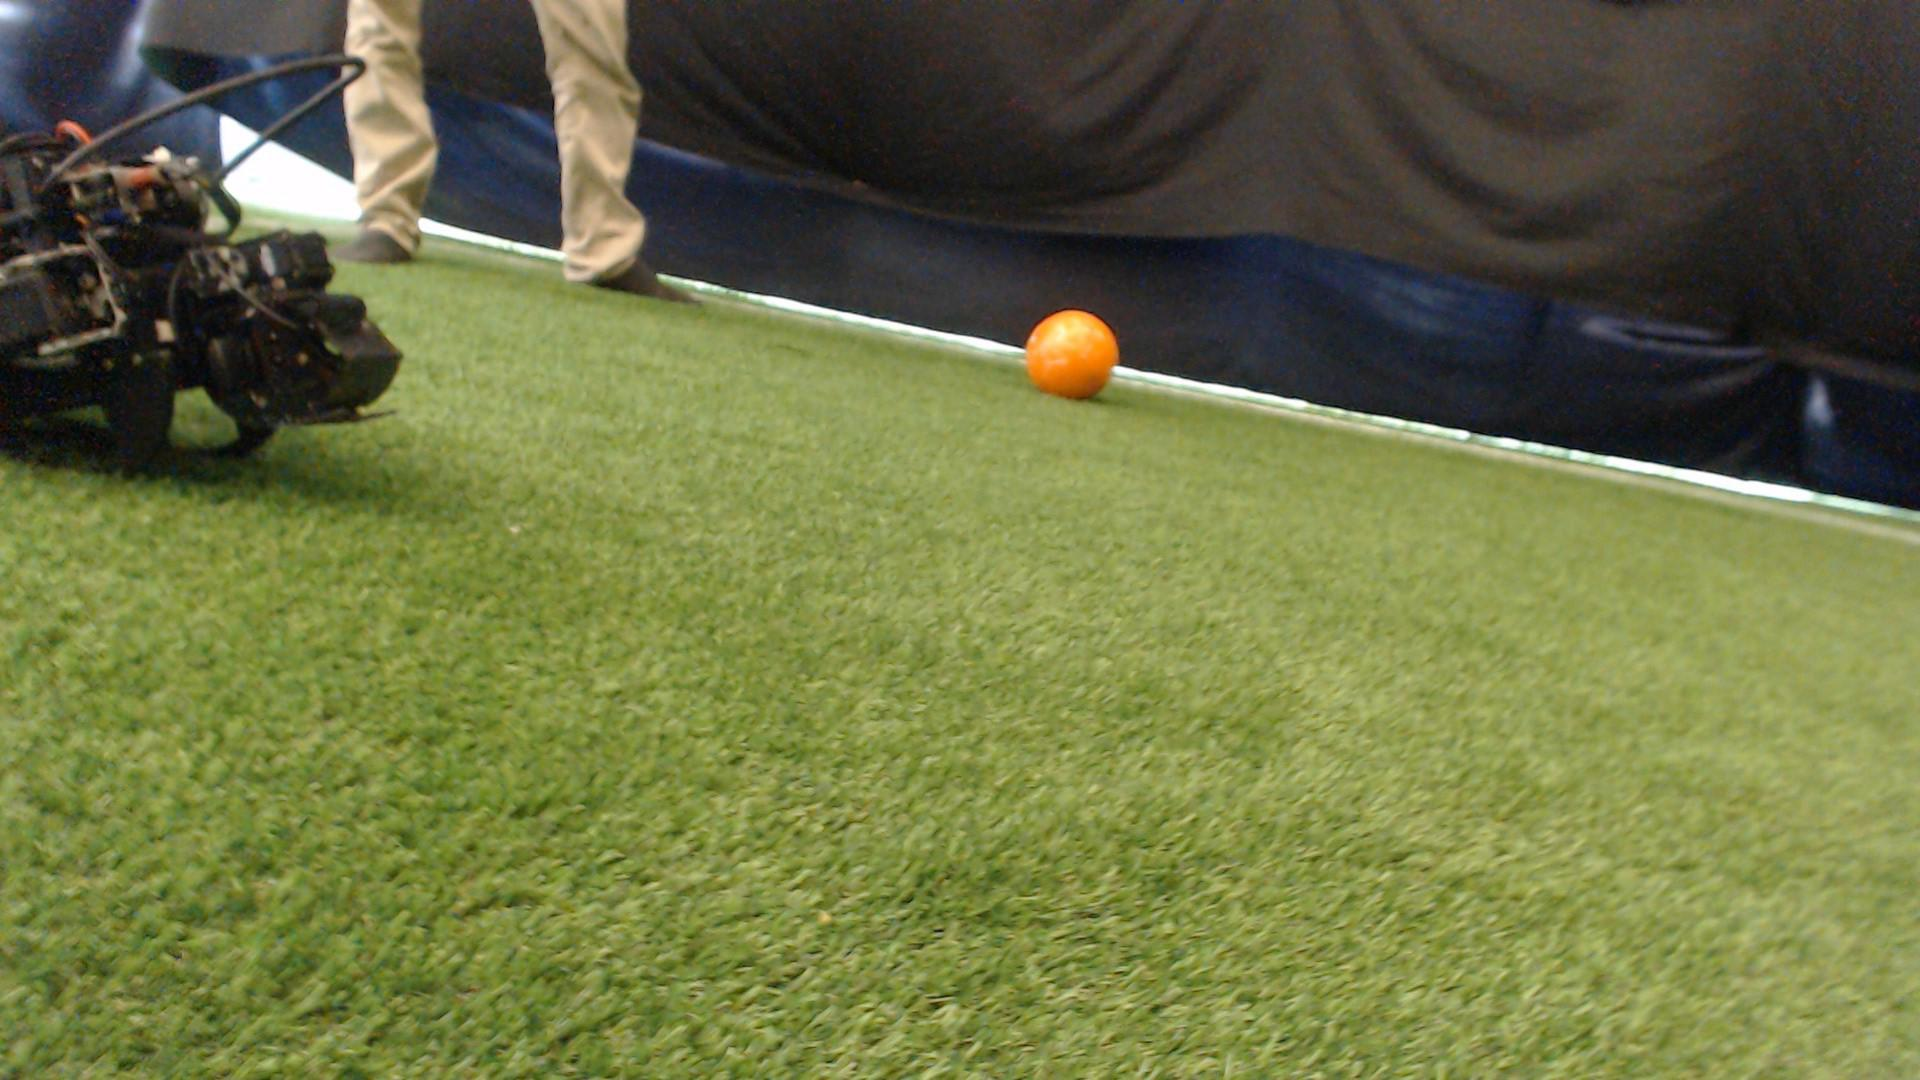bola: (1021, 306, 1147, 409)
